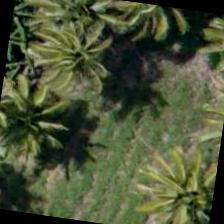Kelapa_Sawit: (30, 9, 132, 111), (0, 76, 86, 178), (134, 147, 220, 223), (25, 0, 123, 56)
